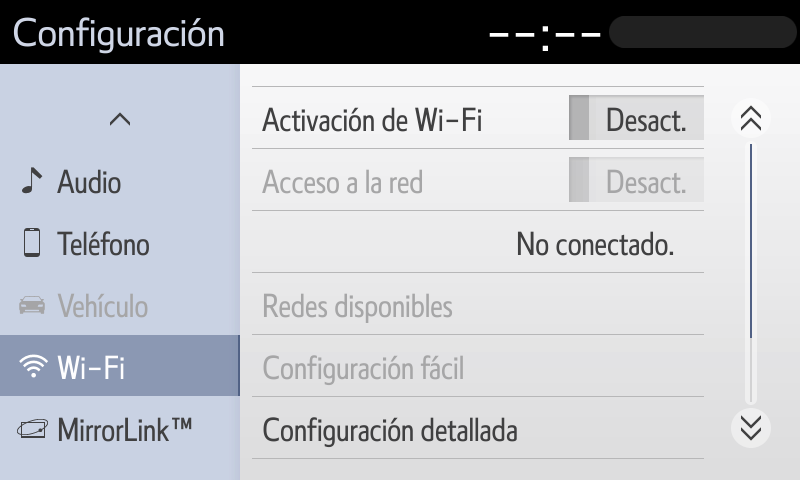touchPart: (250, 79, 706, 151), (250, 394, 711, 462), (16, 410, 197, 446), (20, 222, 153, 259), (22, 160, 139, 197), (729, 94, 773, 143), (732, 411, 779, 448), (100, 104, 136, 134)
untouchPart: (249, 330, 711, 404), (246, 267, 714, 340), (250, 145, 709, 216), (1, 333, 241, 400), (469, 12, 792, 55), (14, 10, 222, 55), (16, 288, 157, 325)
